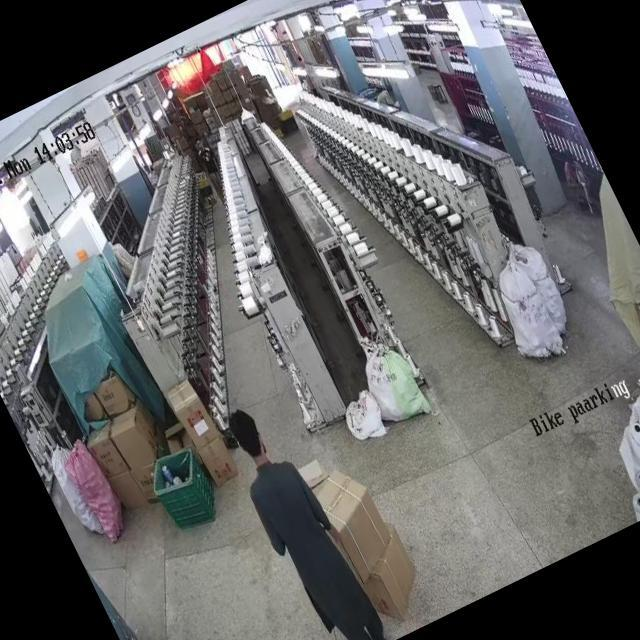person: (212, 391, 395, 640), (188, 132, 228, 192)
